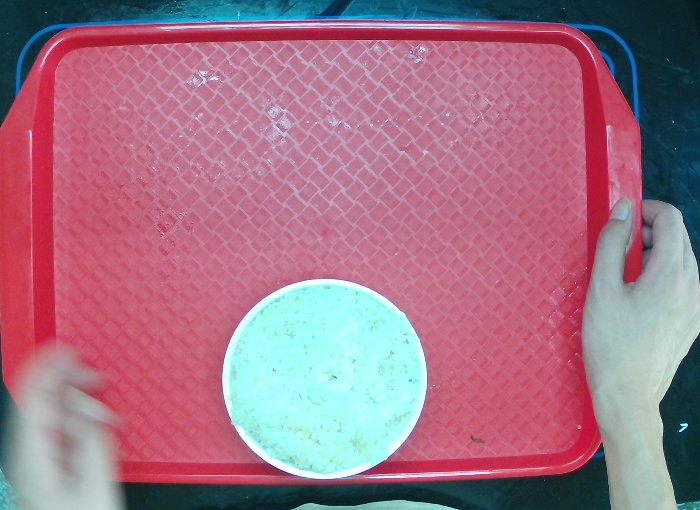YKMZ-Fan_Wan: (222, 278, 428, 481)
